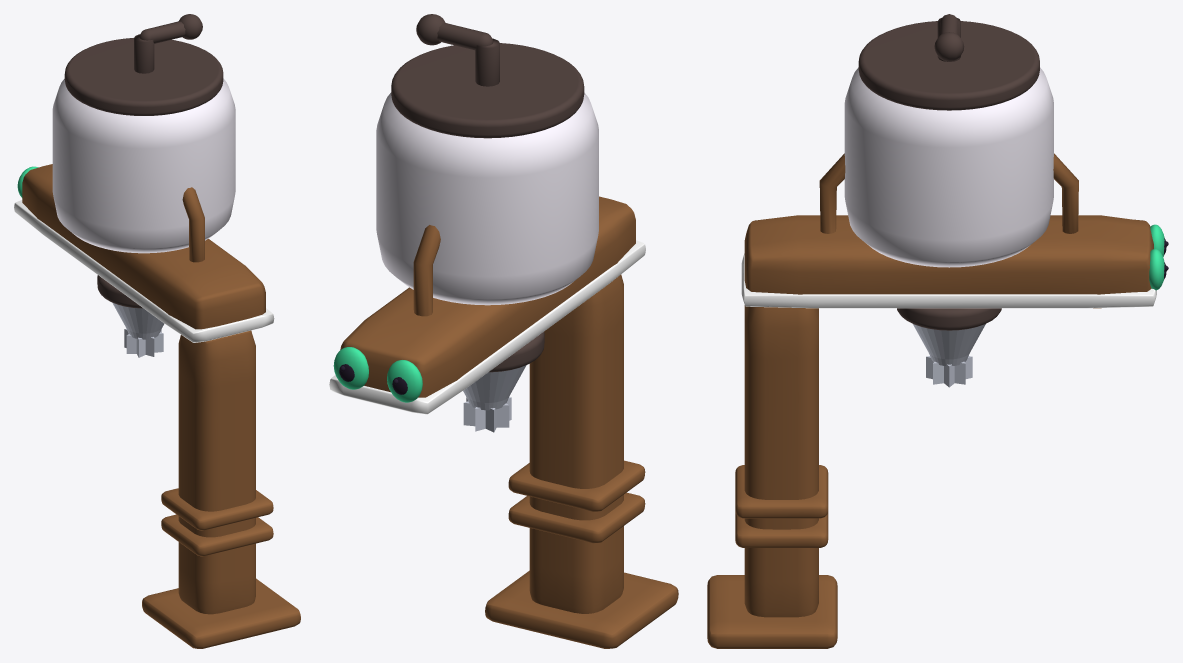
File: CakeNozzle.obj
The picture shows the model from 3 angles, left to right: view 1: azimuth 30°, elevation 25°; view 2: azimuth 150°, elevation 25°; view 3: azimuth 270°, elevation 25°; orthographic projection. The views are drawn at different scales.
Parts seen in each view (by area): view 1: Frame, Tank, Trim, Stripe, Nozzle; view 2: Frame, Tank, Trim, Stripe, Nozzle, Eyes; view 3: Frame, Tank, Trim, Stripe, Nozzle, Eyes.
Part boxes in pixels (x1,y1,x2,y2): Frame: [22, 164, 300, 648]; Tank: [52, 78, 235, 253]; Trim: [64, 14, 223, 308]; Stripe: [14, 200, 274, 342]; Nozzle: [112, 302, 164, 357]; Frame: [340, 196, 678, 648]; Tank: [376, 92, 598, 305]; Trim: [391, 14, 584, 372]; Stripe: [329, 240, 645, 414]; Nozzle: [463, 365, 526, 432]; Eyes: [333, 347, 422, 402]; Frame: [707, 153, 1153, 648]; Tank: [844, 67, 1053, 267]; Trim: [858, 14, 1039, 330]; Stripe: [741, 253, 1156, 308]; Nozzle: [913, 324, 985, 387]; Eyes: [1149, 224, 1164, 290].
Bounding box in the file's own units: 4.5 × 14.57 × 9.91.
